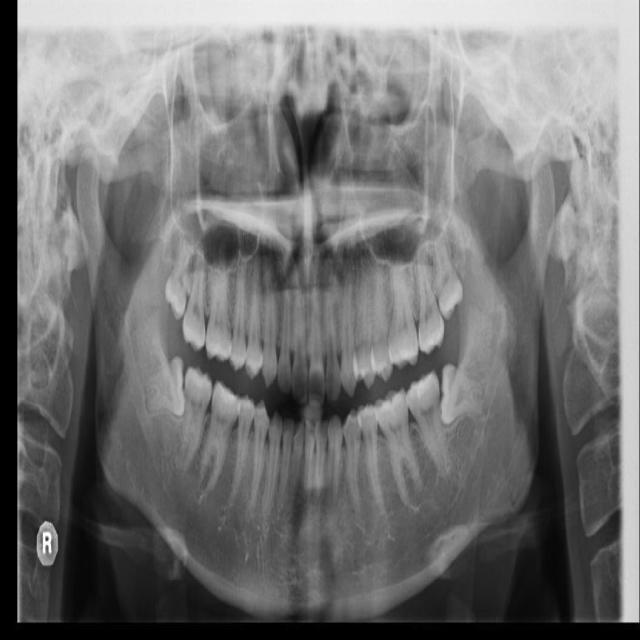3M ESPE Implant: (161, 234, 193, 321)
73: (553, 598, 568, 612)
BioHorizons Implant: (416, 240, 445, 355)
BioLife Implant: (426, 215, 467, 322)
Biomet 3i Implant: (435, 360, 488, 426)
Blue Sky Bio Implant: (401, 368, 453, 480)
Caries: (180, 239, 206, 355)
Implant: (178, 365, 215, 469)
Keystone Dental Implant: (140, 356, 186, 418)
